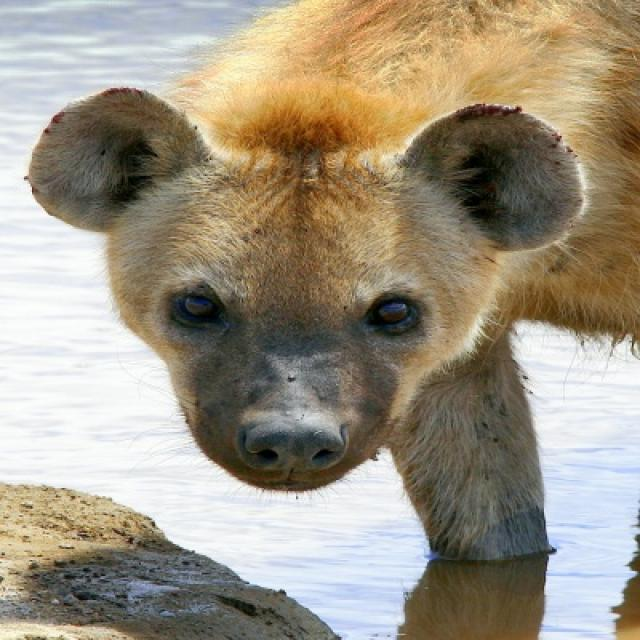hyena: (24, 0, 638, 638)
